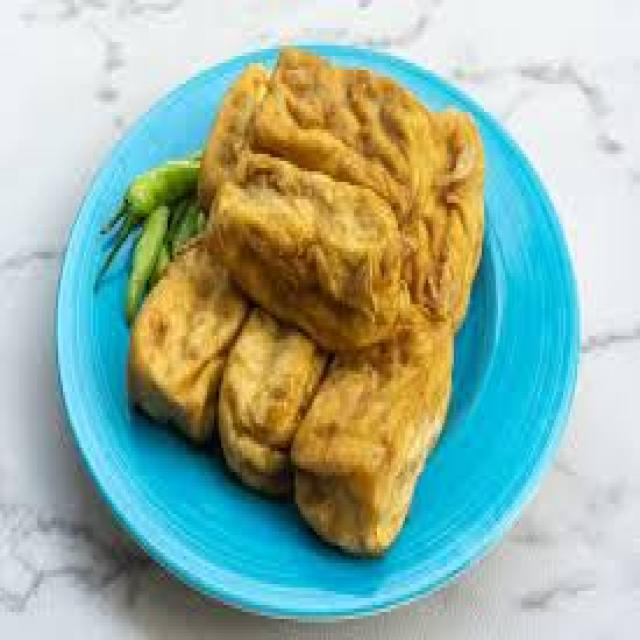tahu: (204, 60, 502, 308), (217, 262, 450, 530), (202, 147, 414, 358), (257, 38, 437, 220), (132, 181, 240, 422)
